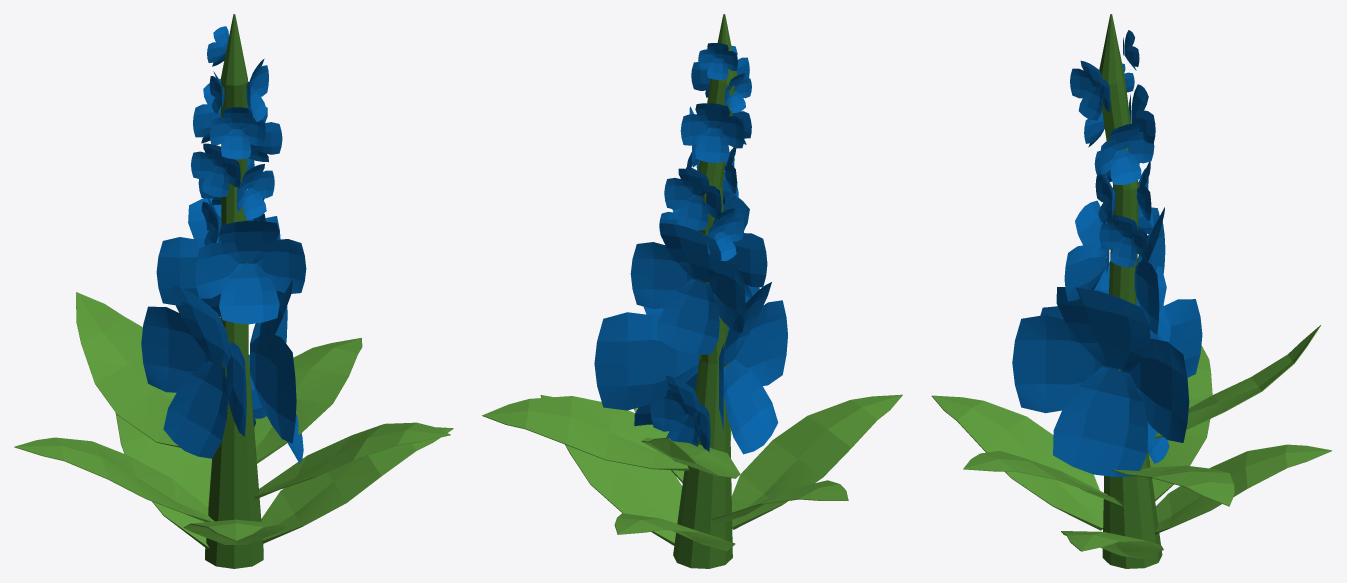
File: Flower1.fbx
3 views of the same model, side by side, from view 1: azimuth 30°, elevation 25°; view 2: azimuth 150°, elevation 25°; view 3: azimuth 270°, elevation 25° (orthographic). The views are drawn at different scales.
Parts seen in each view (by area): view 1: ByrelBlue; view 2: ByrelBlue; view 3: ByrelBlue.
Boxes of the visible parts, bbox=[...] form: ByrelBlue: bbox=[14, 14, 453, 568]; ByrelBlue: bbox=[482, 14, 902, 568]; ByrelBlue: bbox=[931, 14, 1332, 568].
Bounding box in the file's own units: 22.42 × 31.26 × 21.16.
